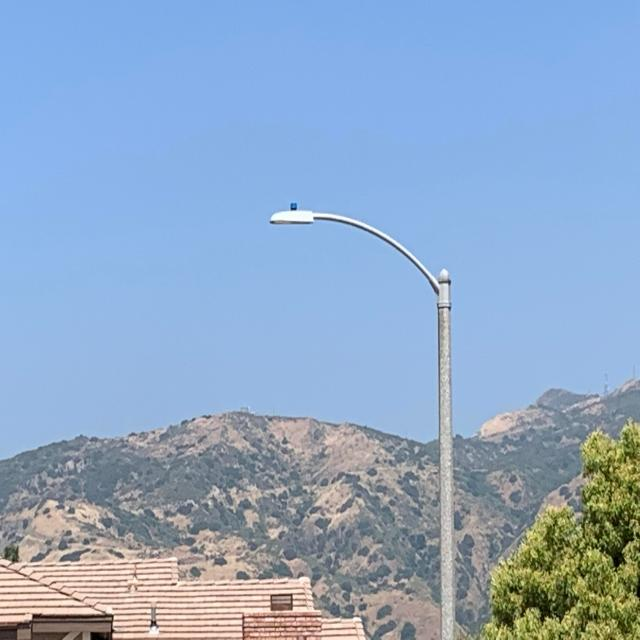Street Light: (270, 204, 464, 638)
